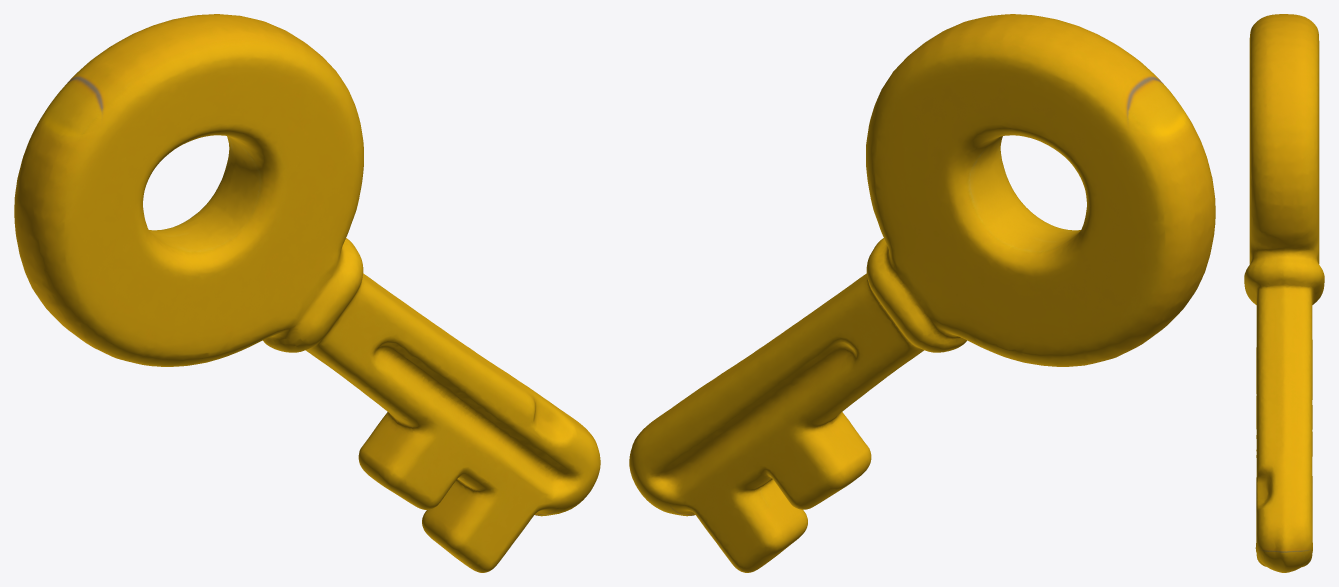
File: Key.fbx
The picture shows the model from 3 angles, left to right: view 1: azimuth 30°, elevation 25°; view 2: azimuth 150°, elevation 25°; view 3: azimuth 270°, elevation 25°; orthographic projection. The views are drawn at different scales.
Parts seen in each view (by area): view 1: Mesh_0; view 2: Mesh_0; view 3: Mesh_0.
Boxes of the visible parts, left/top/right/bottom form: Mesh_0: left=14, top=14, right=600, bottom=572; Mesh_0: left=629, top=14, right=1215, bottom=572; Mesh_0: left=1244, top=14, right=1324, bottom=572.
Size of the model in its own units: 186 by 188 by 31.32.
1 material, 1 textured.
